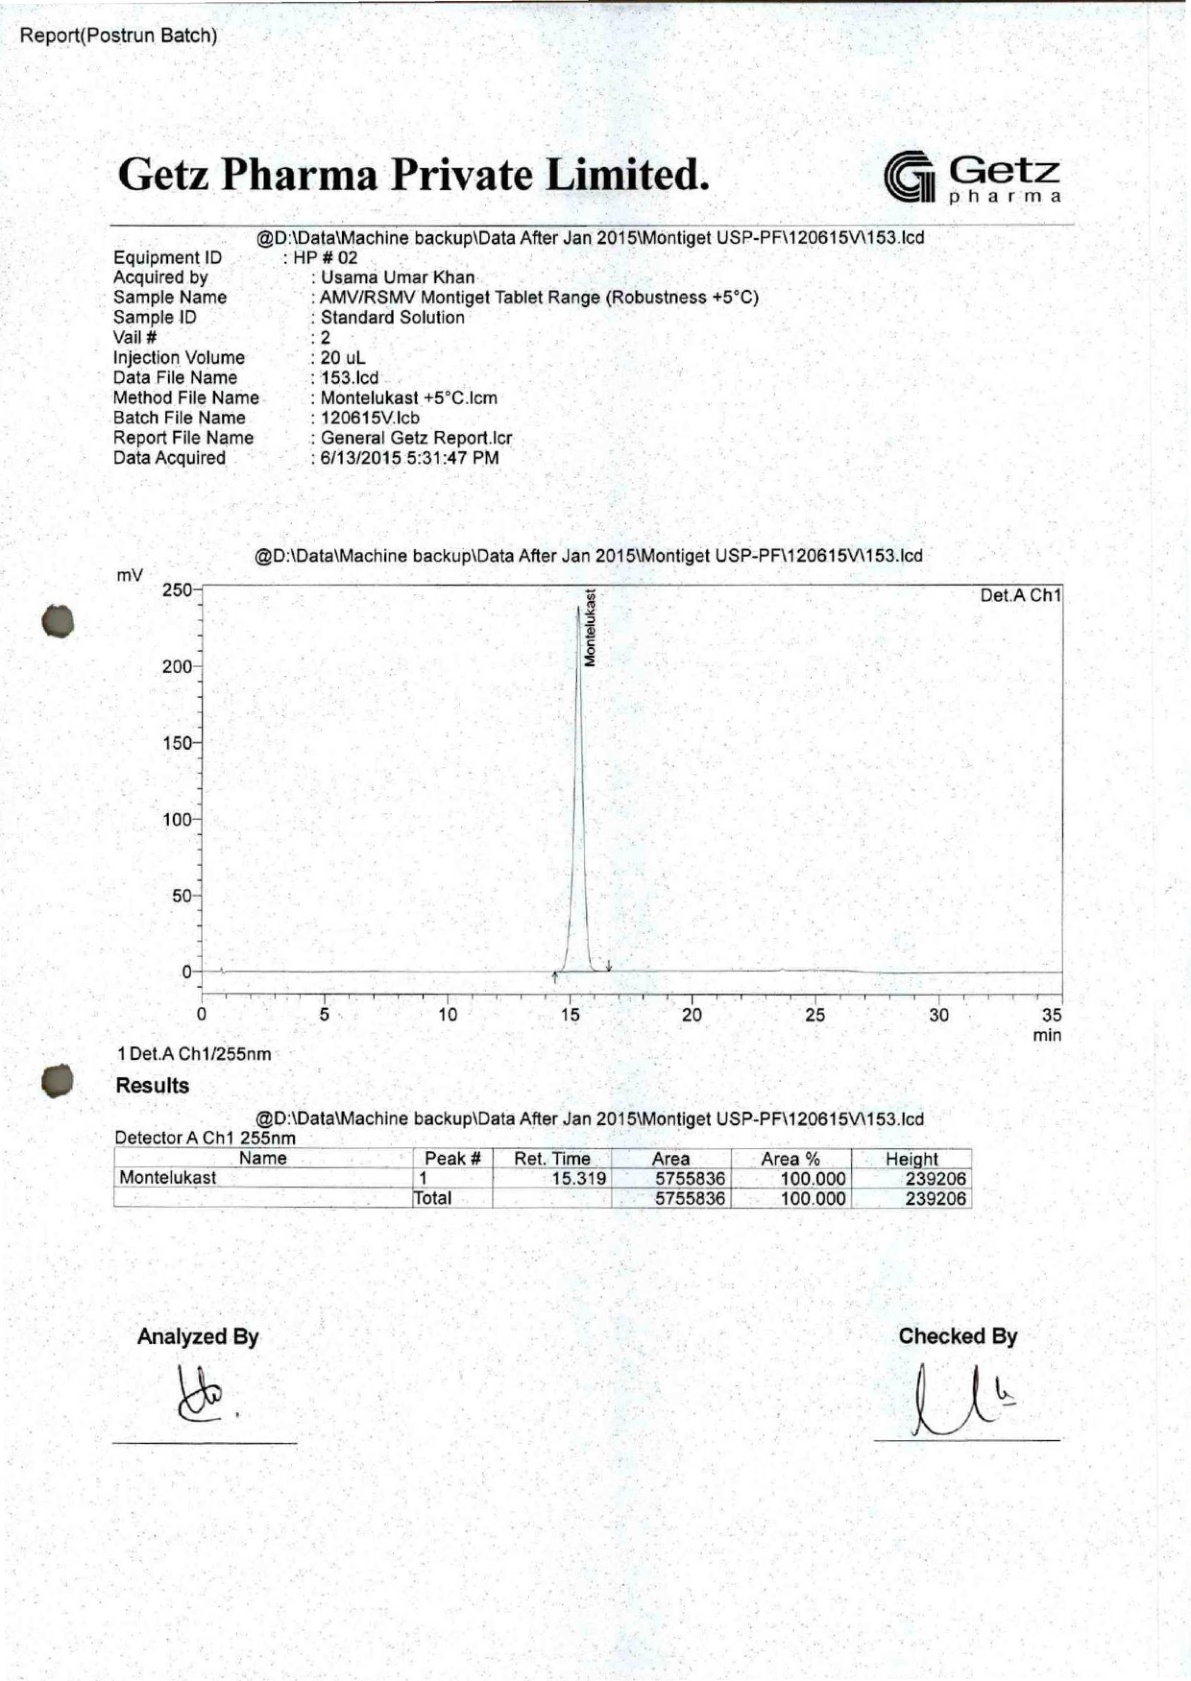full_lined: (111, 1145, 974, 1210)
nolines: (110, 249, 760, 469)
